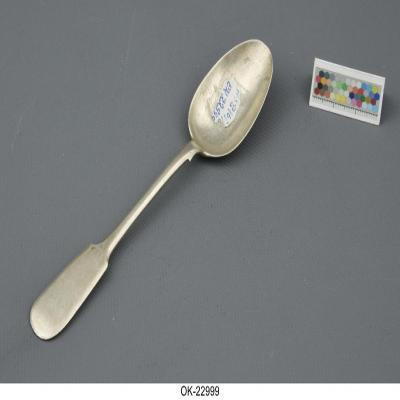dpi: (30, 40, 274, 342)
